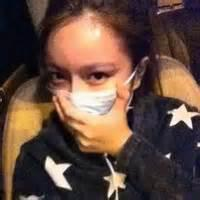OK: (45, 41, 135, 131)
